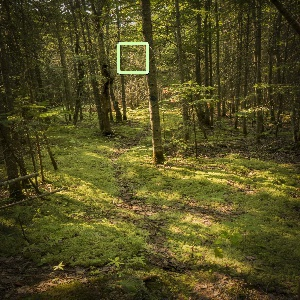square: (114, 39, 151, 77)
